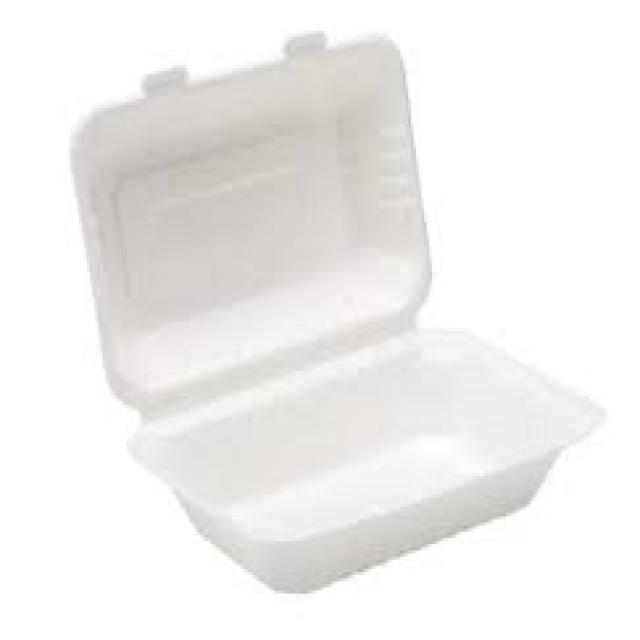styrofoam: (73, 41, 597, 591)
